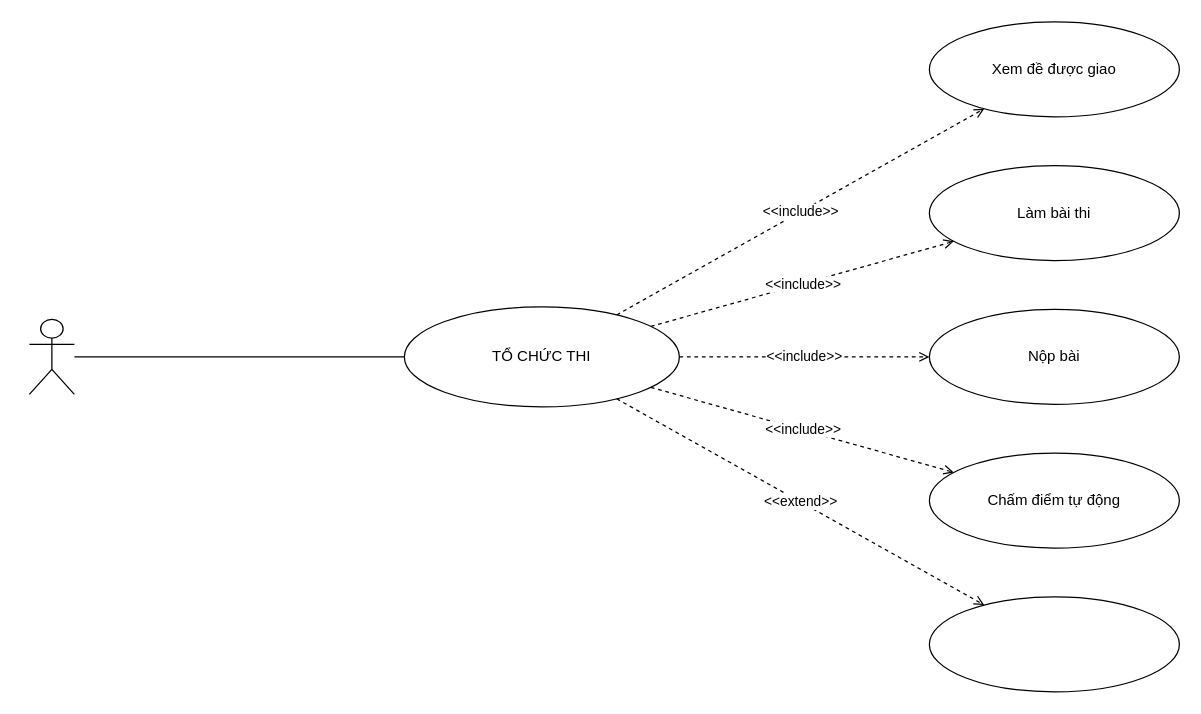
Image size: 1201x714. Some labels were removed from this diagram. Here are the shapes that lost their labels. From the top down, the centre of each, then its label:
At point (51, 356): "Sinh viên".
At point (1053, 644): "Xem kết quả & đáp án".
